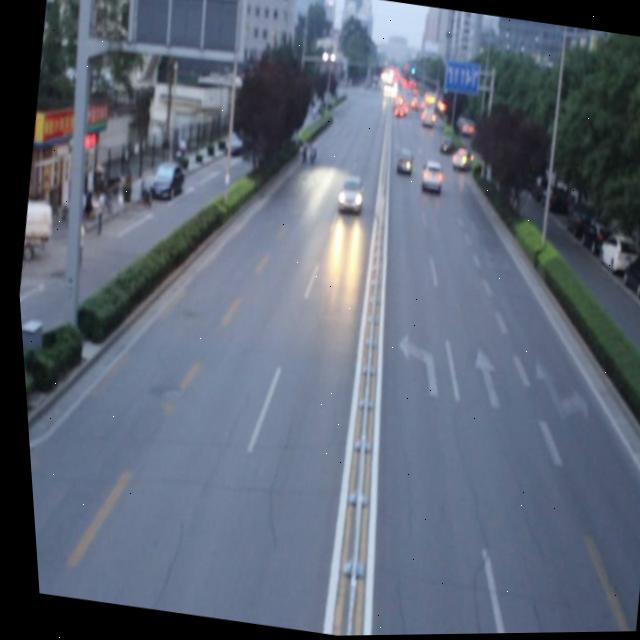car: (330, 173, 364, 219)
